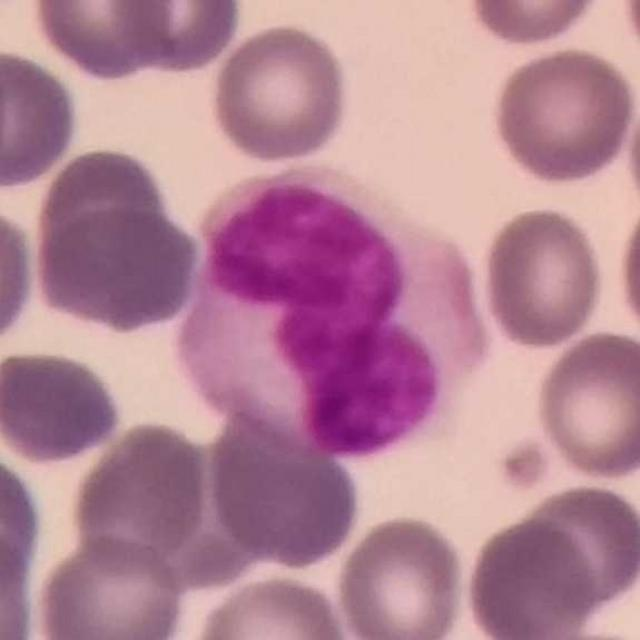mono: (178, 158, 495, 460)
